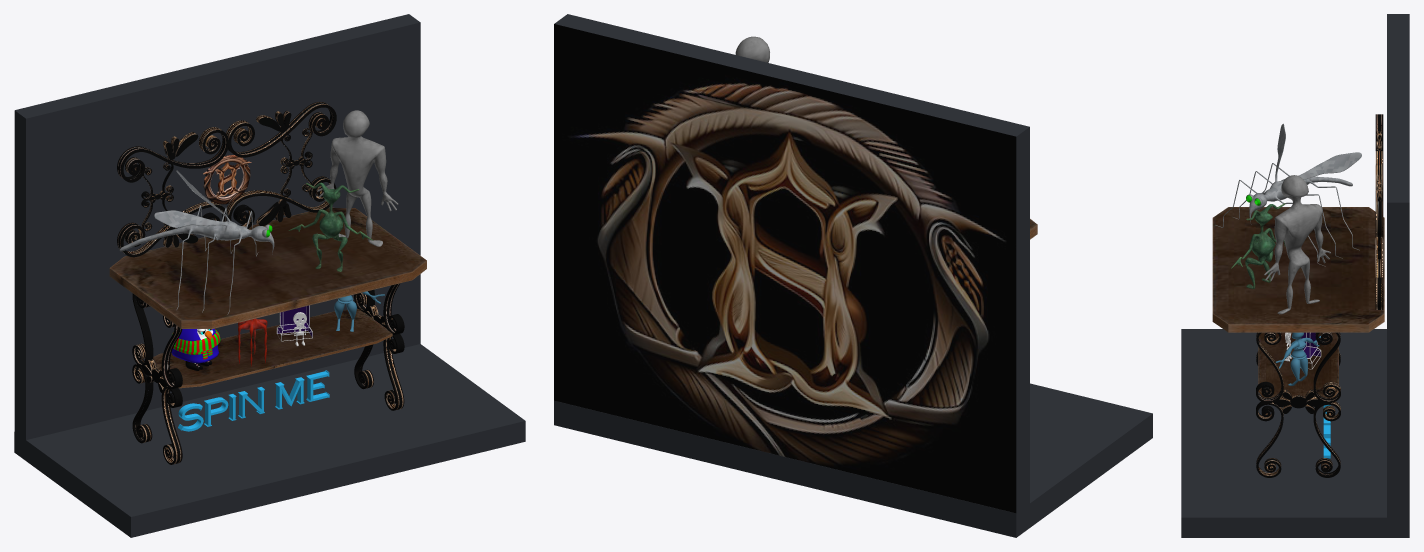
The model's file is ornatedesk1.gltf.
3 renders of one model, left to right at view 1: azimuth 30°, elevation 25°; view 2: azimuth 150°, elevation 25°; view 3: azimuth 270°, elevation 25°, orthographic. The views are drawn at different scales.
Visible parts, largest first — view 1: backwall, floor, wood, metal, alien1.001, Retopo_mosquito, Spinme, alien4.001, penguin, Logo, Retopo_tombboi, alien3.001; view 2: backwall, floor; view 3: floor, wood, backwall, metal, alien1.001, Retopo_mosquito, alien4.001, alien2.001, Retopo_tombboi.
Boxes of the visible parts, x1,y1,x2,y2 form: backwall: (14, 14, 420, 455); floor: (14, 344, 525, 537); wood: (109, 207, 426, 388); metal: (117, 102, 404, 464); alien1.001: (317, 110, 398, 246); Retopo_mosquito: (119, 170, 274, 314); Spinme: (178, 370, 329, 431); alien4.001: (288, 182, 373, 271); penguin: (171, 328, 220, 370); Logo: (203, 155, 251, 204); Retopo_tombboi: (276, 305, 312, 341); alien3.001: (238, 318, 267, 366); backwall: (554, 14, 1029, 531); floor: (554, 383, 1152, 537); floor: (1181, 329, 1409, 537); wood: (1212, 207, 1384, 398); backwall: (1387, 14, 1409, 532); metal: (1256, 114, 1383, 477); alien1.001: (1264, 175, 1330, 314); Retopo_mosquito: (1215, 123, 1361, 266); alien4.001: (1231, 203, 1285, 289); alien2.001: (1275, 332, 1320, 385); Retopo_tombboi: (1300, 332, 1321, 369).
Bounding box in the file's own units: 10.38 × 8.61 × 5.32.
Materials: 32 (10 with a texture image).
